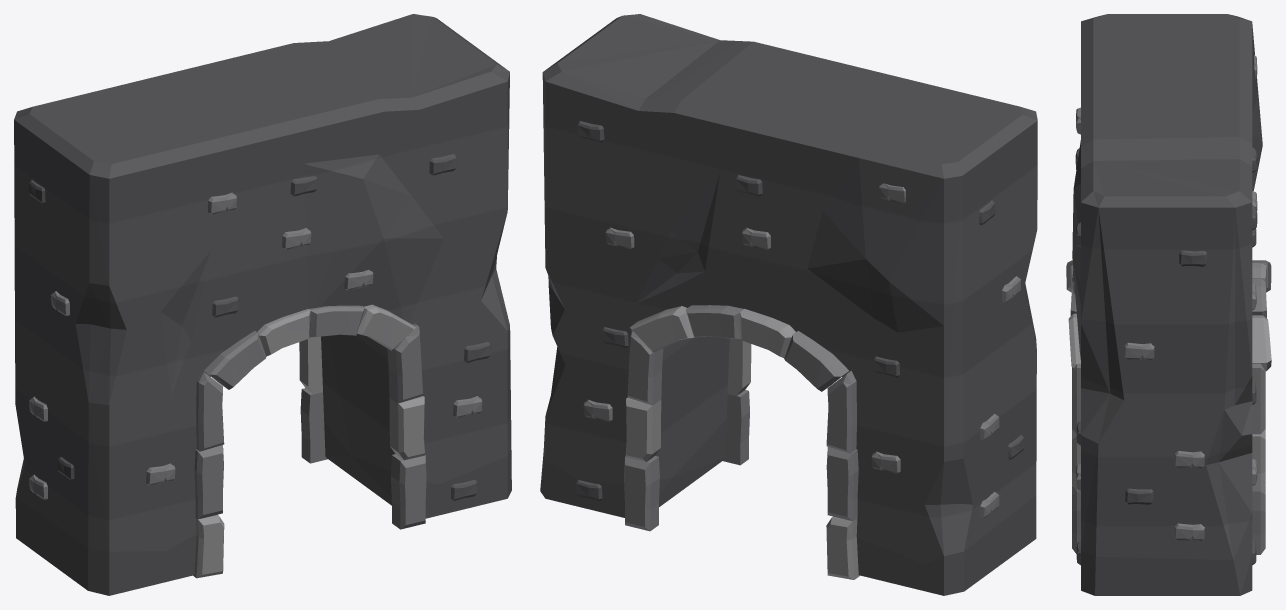
The model's file is SM_Bld_Castle_Wall_Gate_01.gltf.
The picture shows the model from 3 angles, left to right: view 1: azimuth 30°, elevation 25°; view 2: azimuth 150°, elevation 25°; view 3: azimuth 270°, elevation 25°; orthographic projection. The views are drawn at different scales.
Parts seen in each view (by area): view 1: SM_Bld_Castle_Wall_Gate_01; view 2: SM_Bld_Castle_Wall_Gate_01; view 3: SM_Bld_Castle_Wall_Gate_01.
Part boxes in pixels (left/top/right/bottom): SM_Bld_Castle_Wall_Gate_01: left=14, top=14, right=511, bottom=595; SM_Bld_Castle_Wall_Gate_01: left=540, top=14, right=1037, bottom=595; SM_Bld_Castle_Wall_Gate_01: left=1066, top=14, right=1271, bottom=595.
Bounding box in the file's own units: 5.4 × 5.13 × 2.4.
1 material, 1 textured.
